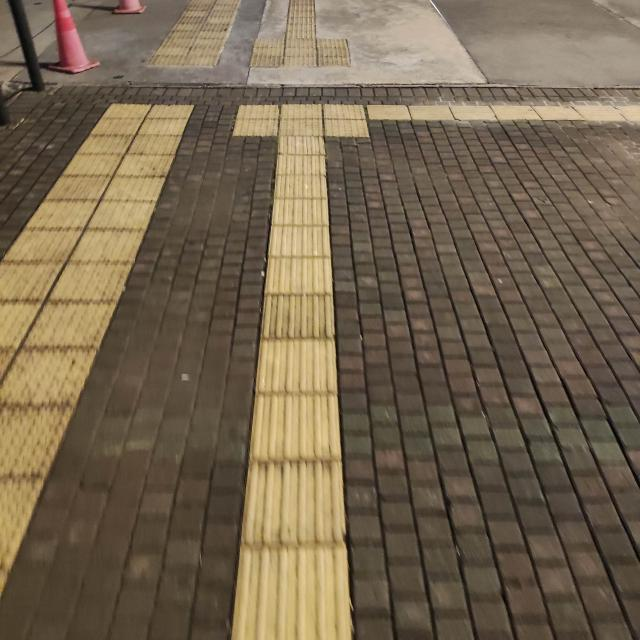kanan: (260, 89, 435, 152)
